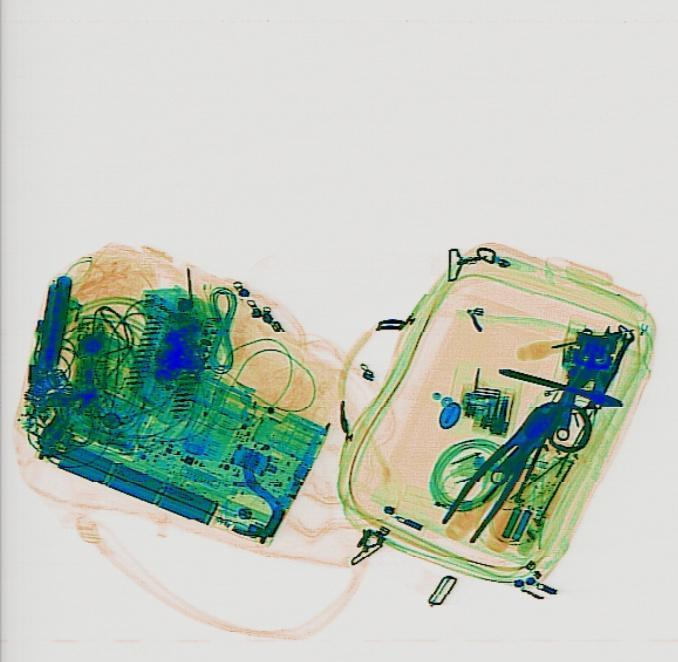Pliers: (433, 386, 576, 547)
